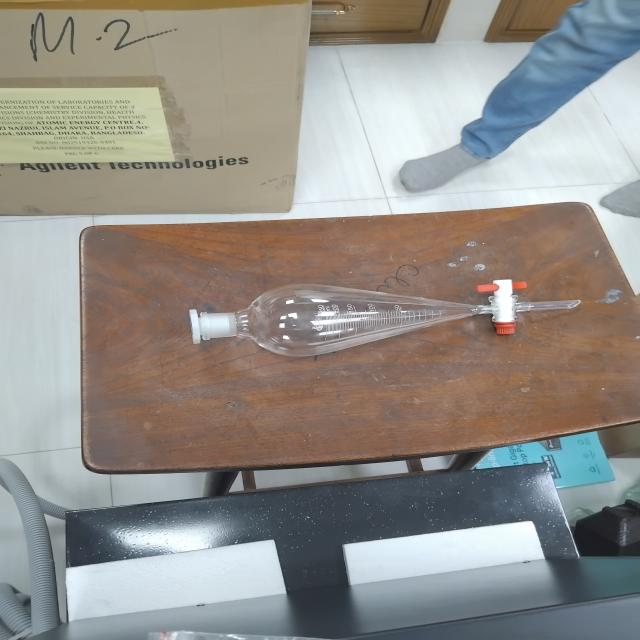Separating_Funnel: (167, 250, 605, 378)
